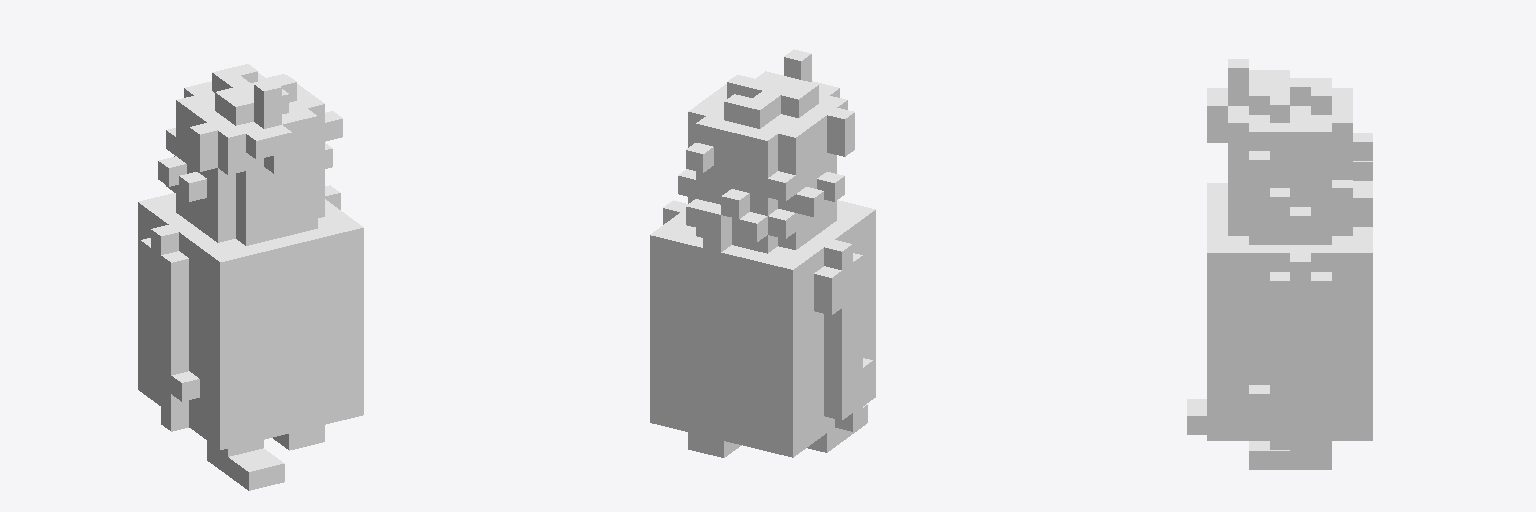
File: blockplayer.obj
The picture shows the model from 3 angles: view 1: azimuth 30°, elevation 25°; view 2: azimuth 150°, elevation 25°; view 3: azimuth 270°, elevation 25°; orthographic projection.
Parts seen in each view (by area): view 1: blockplayer; view 2: blockplayer; view 3: blockplayer.
Part boxes in pixels (left/top/right/bottom): blockplayer: left=138, top=64, right=363, bottom=490; blockplayer: left=650, top=49, right=875, bottom=457; blockplayer: left=1187, top=59, right=1372, bottom=469.
Bounding box in the file's own units: 10 × 20 × 9.